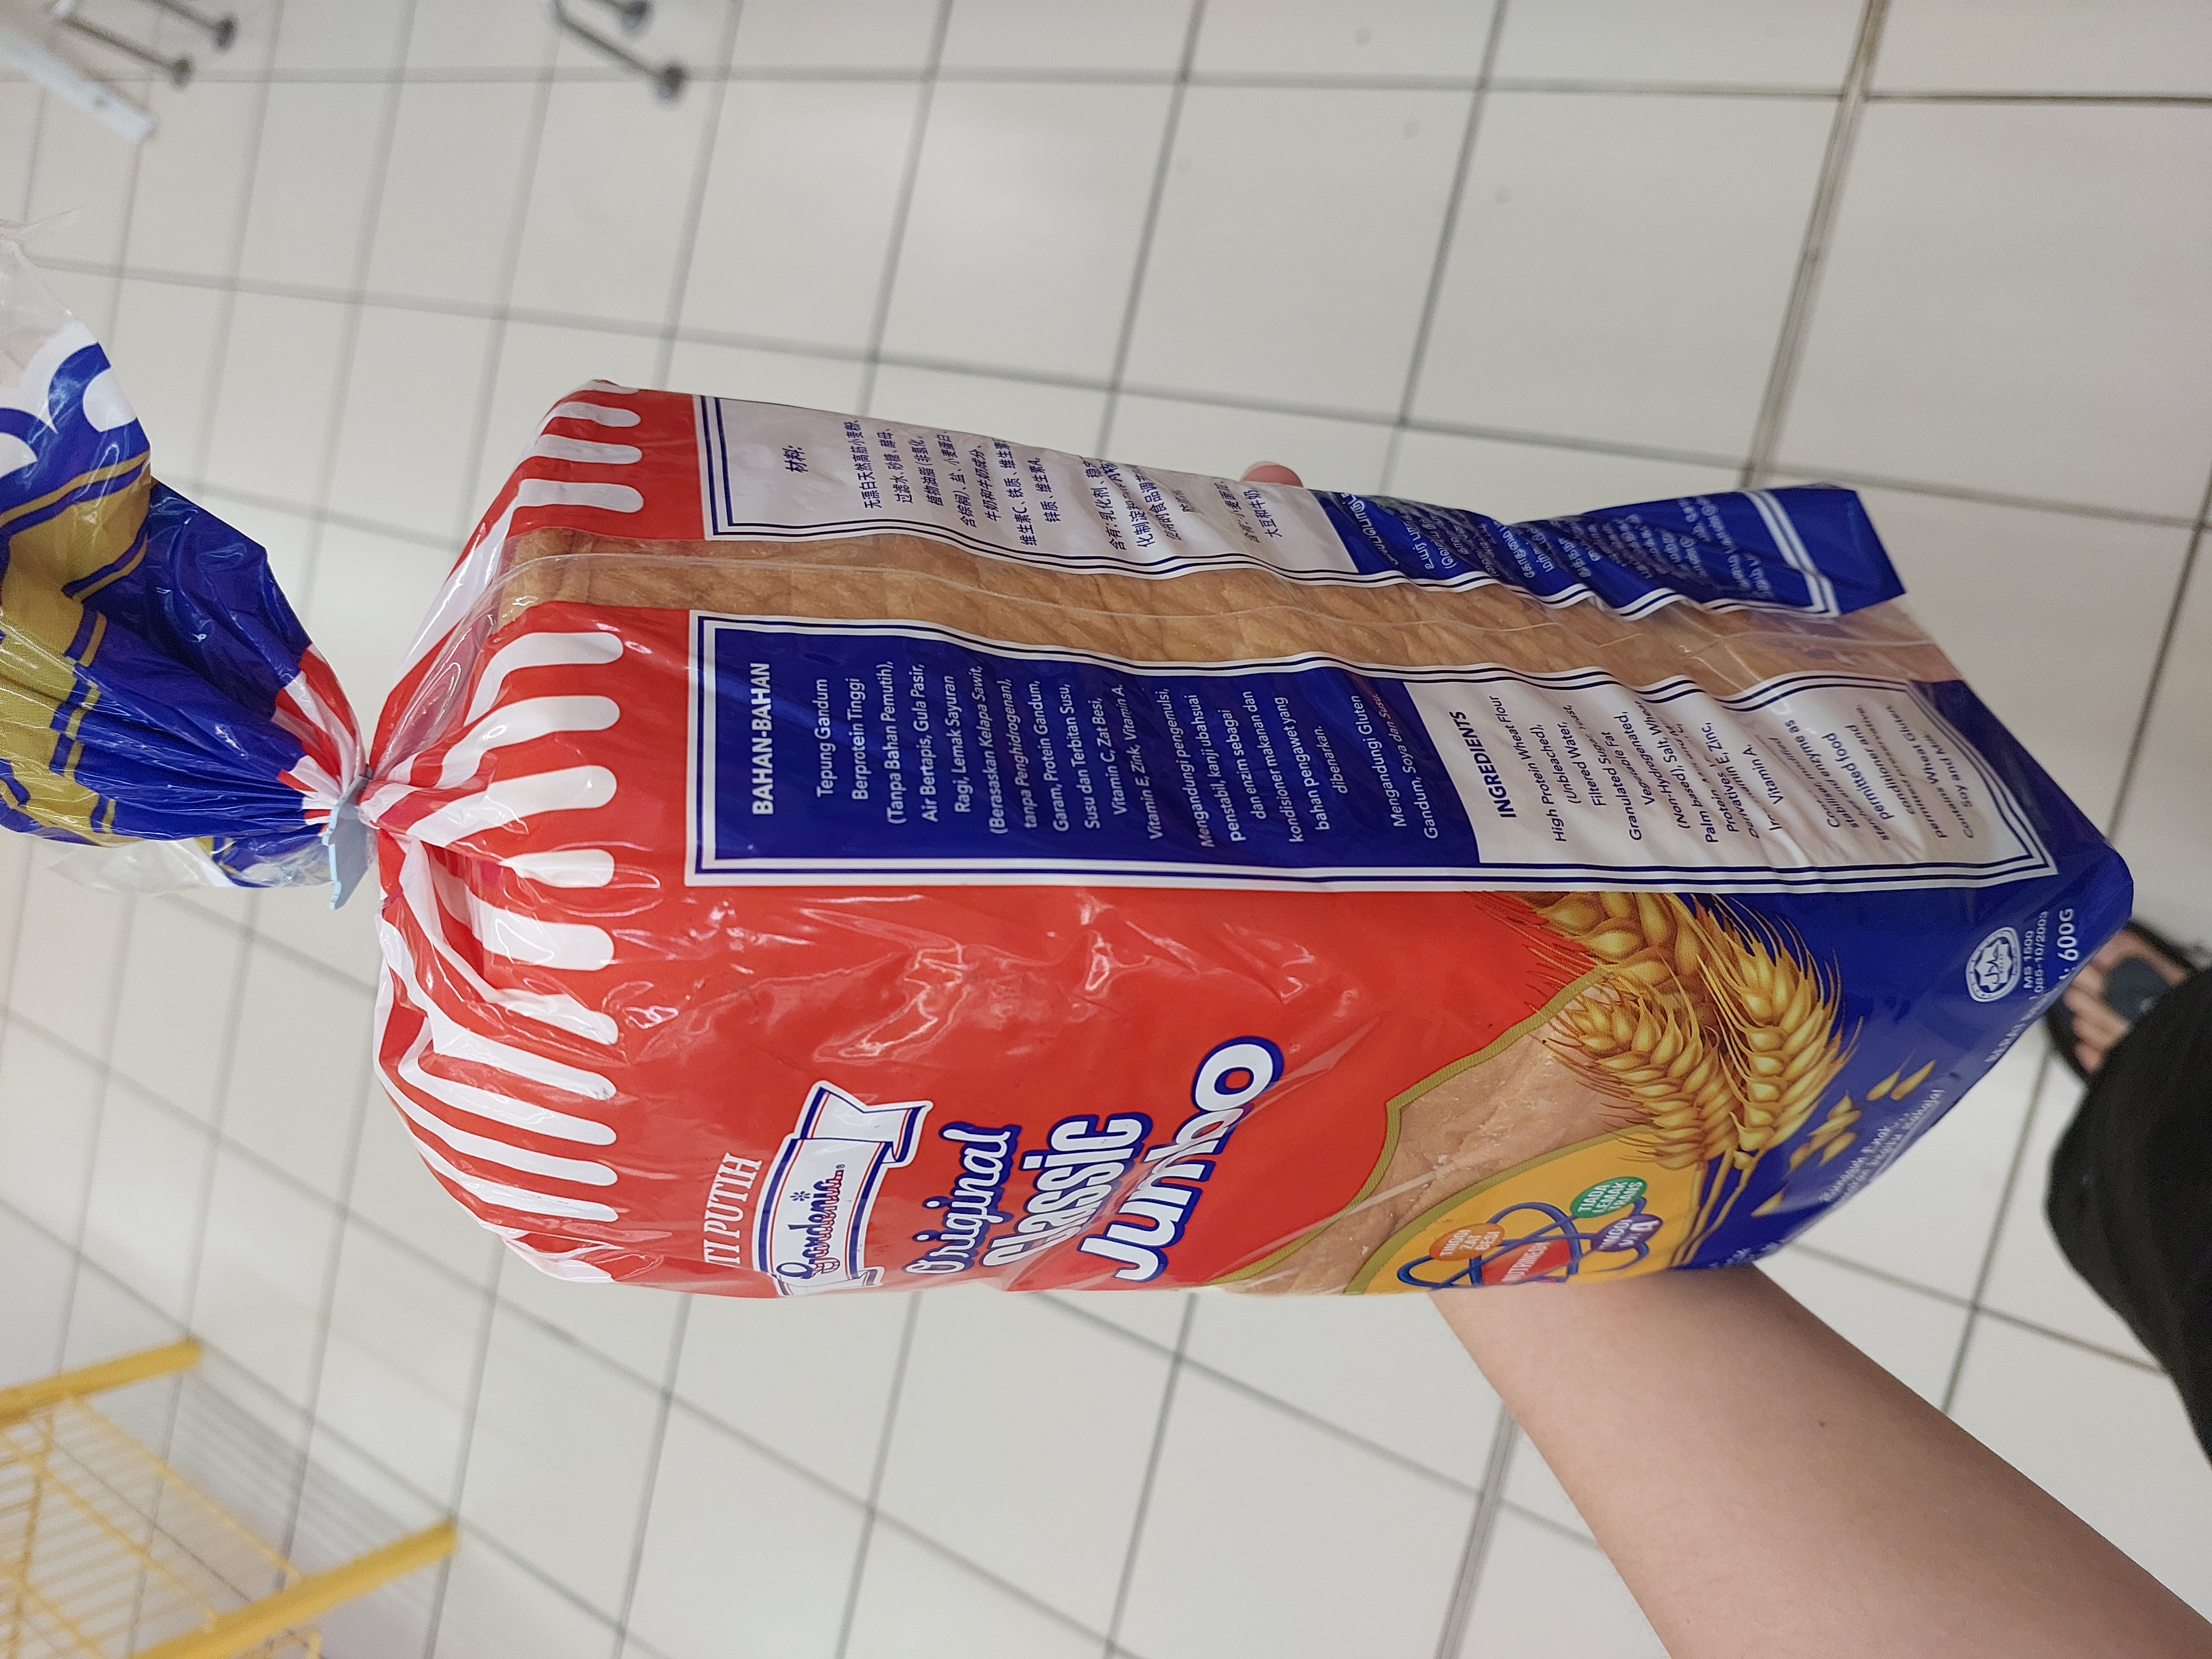bread: (7, 378, 2141, 1303)
